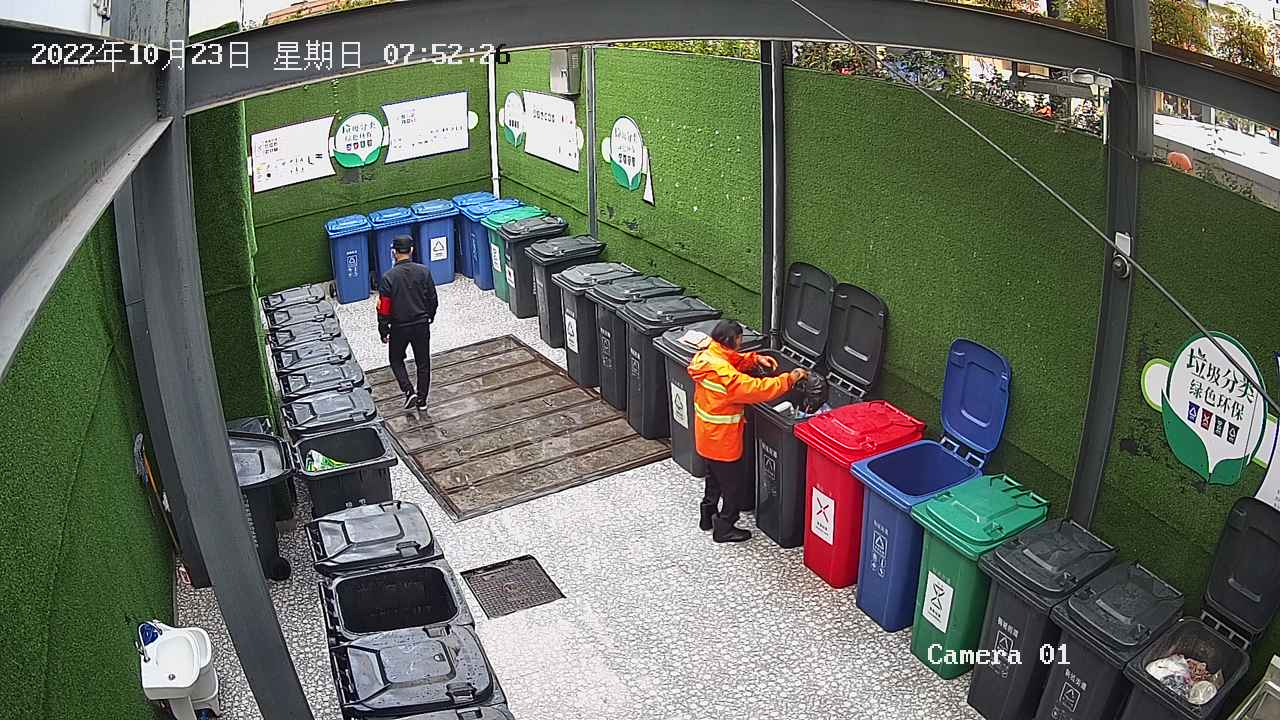worker: (682, 312, 813, 545), (374, 231, 441, 417)
